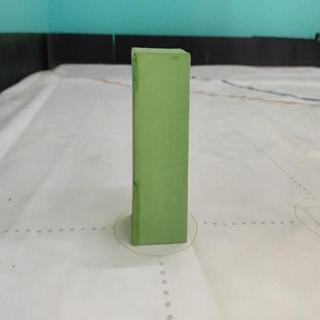greenbox: (131, 45, 189, 244)
